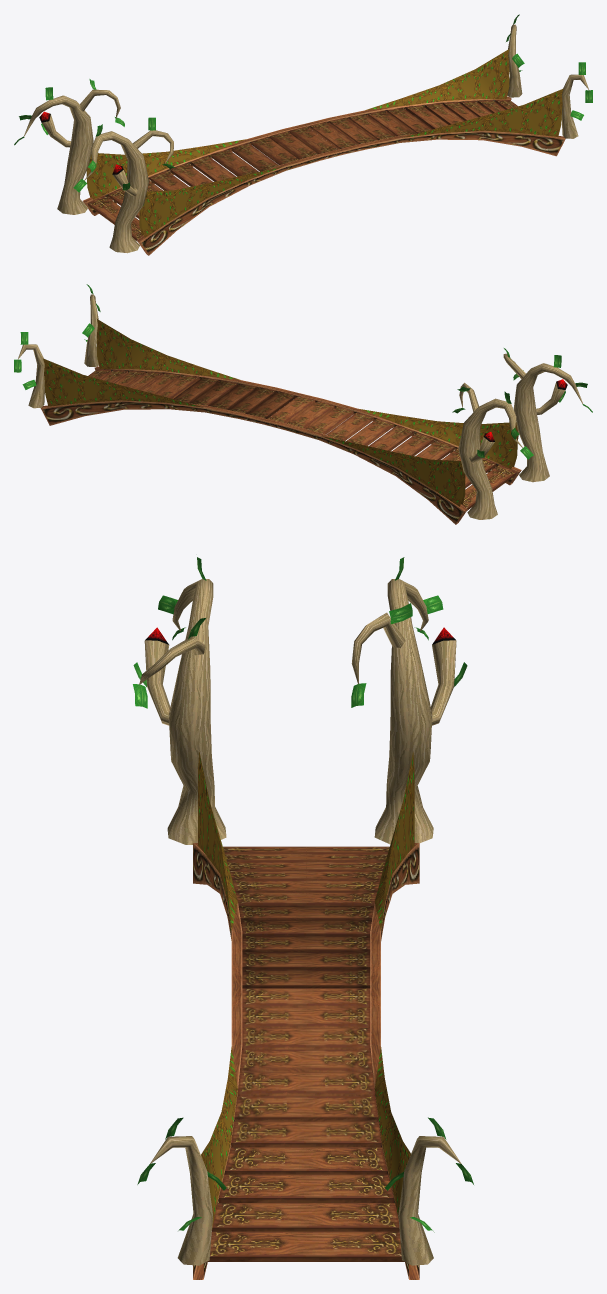
Rendered from EKH_GROTTO_PS_GR_BRIDGE7463__GX.fbx.
3 views of the same model, one above another, from view 1: azimuth 30°, elevation 25°; view 2: azimuth 150°, elevation 25°; view 3: azimuth 270°, elevation 25° (orthographic). The views are drawn at different scales.
Visible parts, largest first — view 1: EKH_GROTTO_PS_GR_BRIDGE7463__GX; view 2: EKH_GROTTO_PS_GR_BRIDGE7463__GX; view 3: EKH_GROTTO_PS_GR_BRIDGE7463__GX.
Part boxes in pixels (x1=…): EKH_GROTTO_PS_GR_BRIDGE7463__GX: x1=14, y1=14, x2=592, y2=255; EKH_GROTTO_PS_GR_BRIDGE7463__GX: x1=14, y1=284, x2=592, y2=524; EKH_GROTTO_PS_GR_BRIDGE7463__GX: x1=133, y1=557, x2=473, y2=1279.
Bounding box in the file's own units: 100114 × 26480 × 29103.
Materials: 6 (6 with a texture image).
